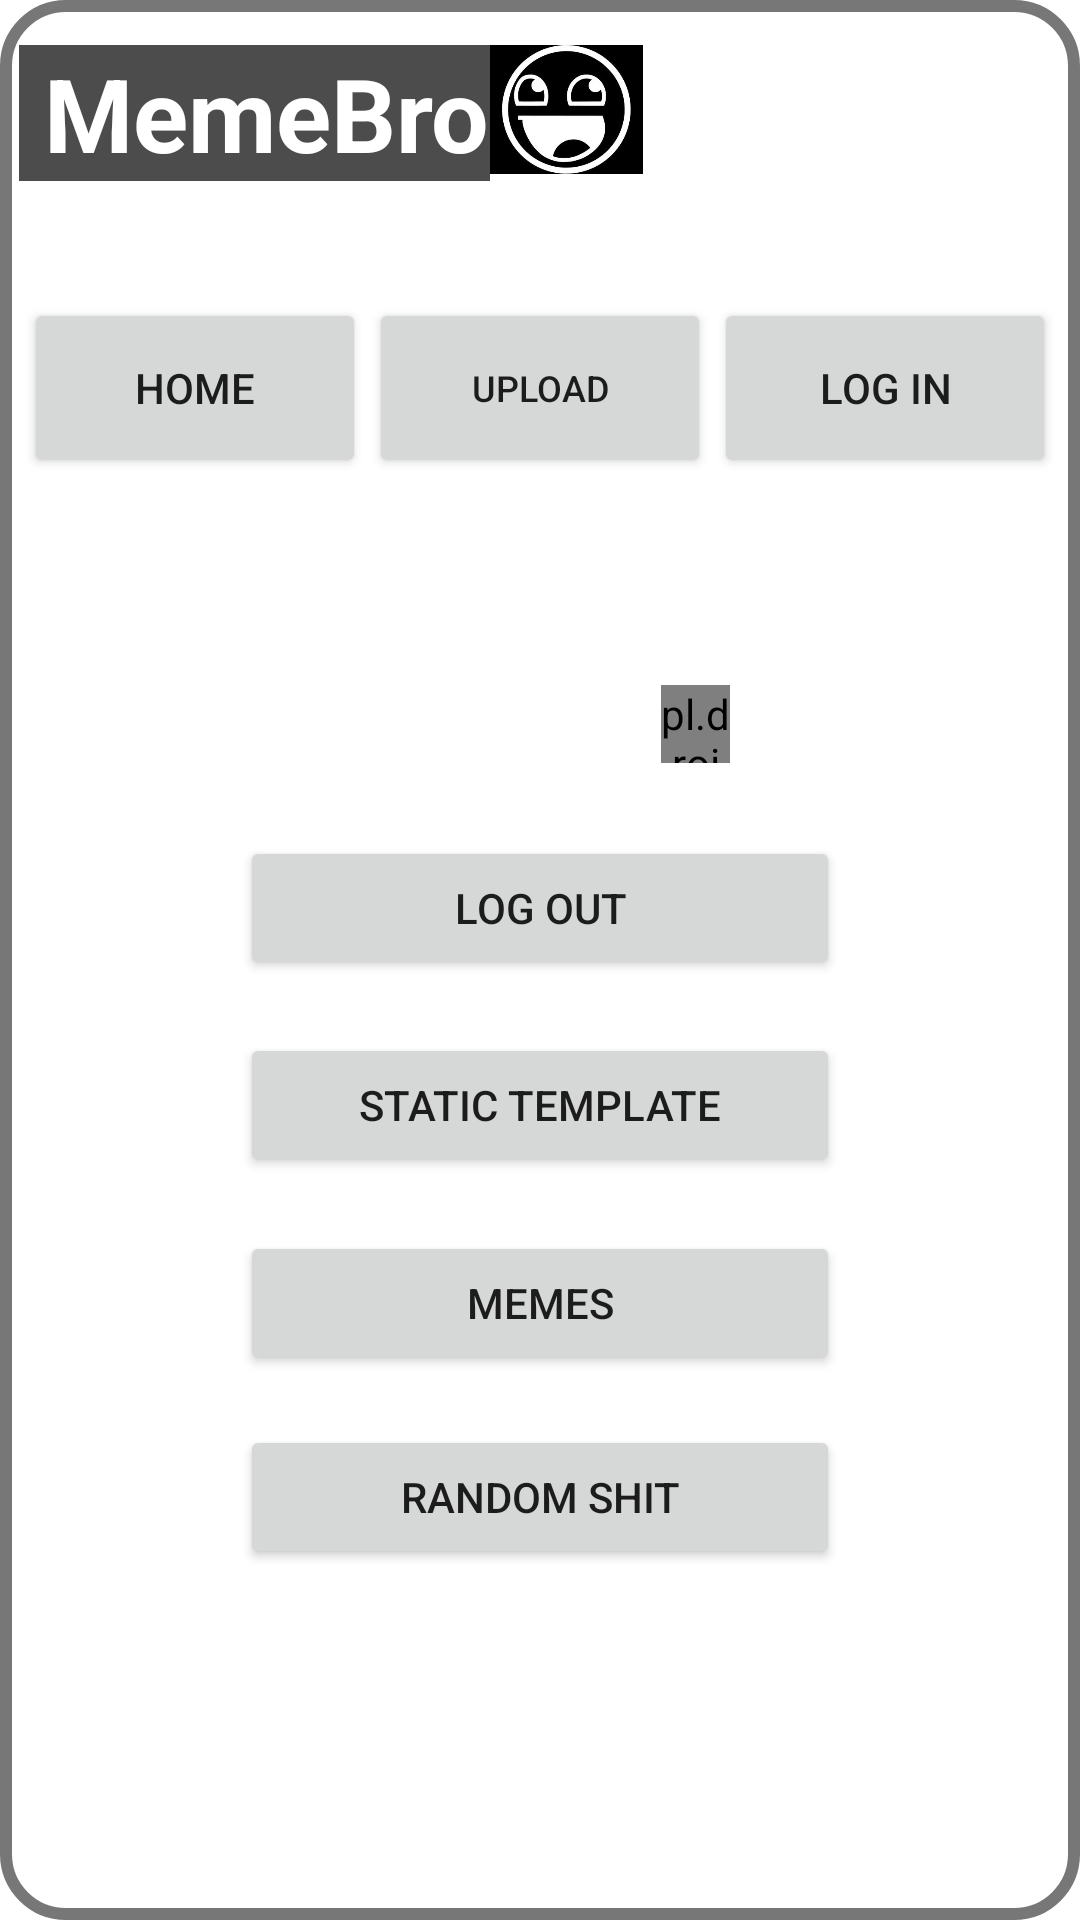

Named icons in this screenshot (1080 × 1920) and their centers, point (x, y):
laugh: point (566, 109)
